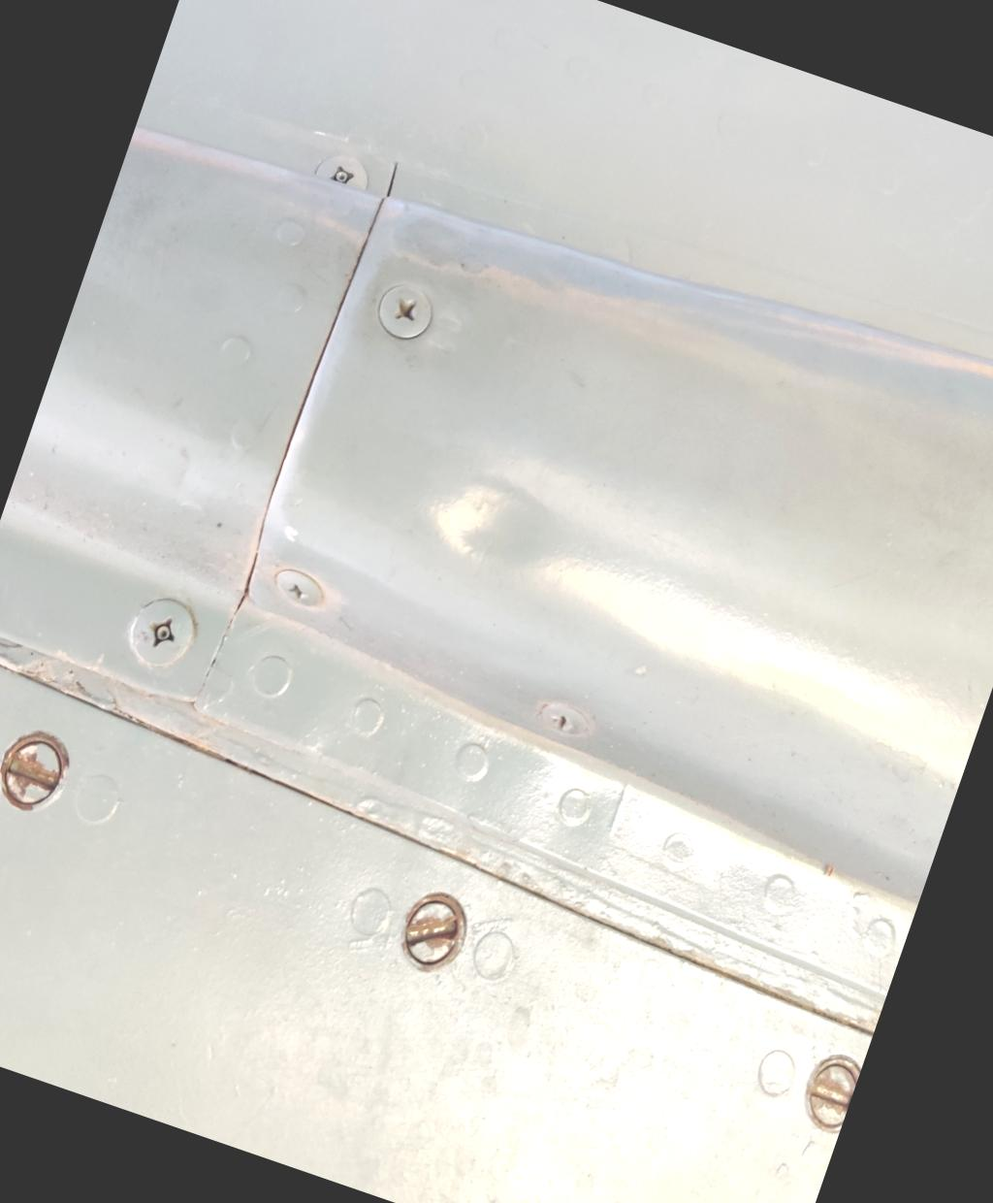dent: (390, 412, 621, 635)
